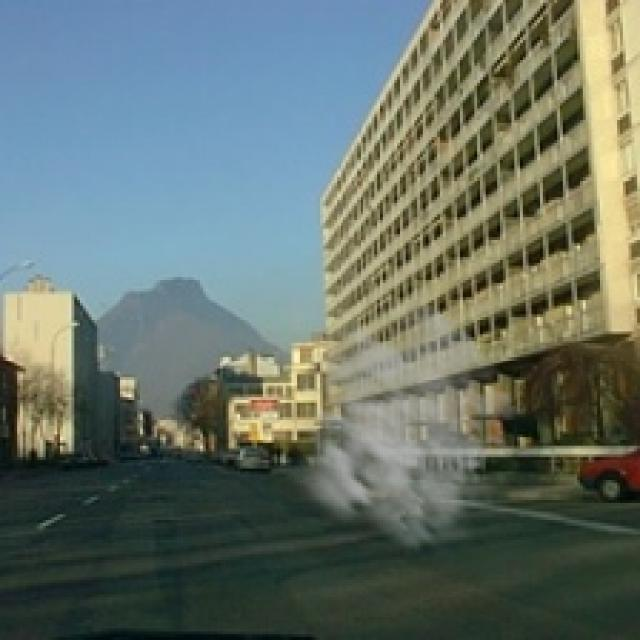Smoke: (257, 288, 526, 563)
